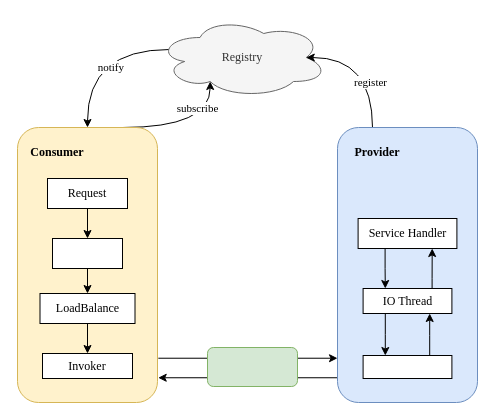
The diagram is 495 pixels wide and 420 high, and some of its shapes have lost their labels. The shapes that lost their labels are listed below. From the top down, each one's box as (x1, y1, x2, y2) in pixels, then its label:
(52, 238, 122, 268): Router
(206, 346, 298, 386): Protocol Buffer HTTP/2
(362, 354, 452, 378): Rpc Server
